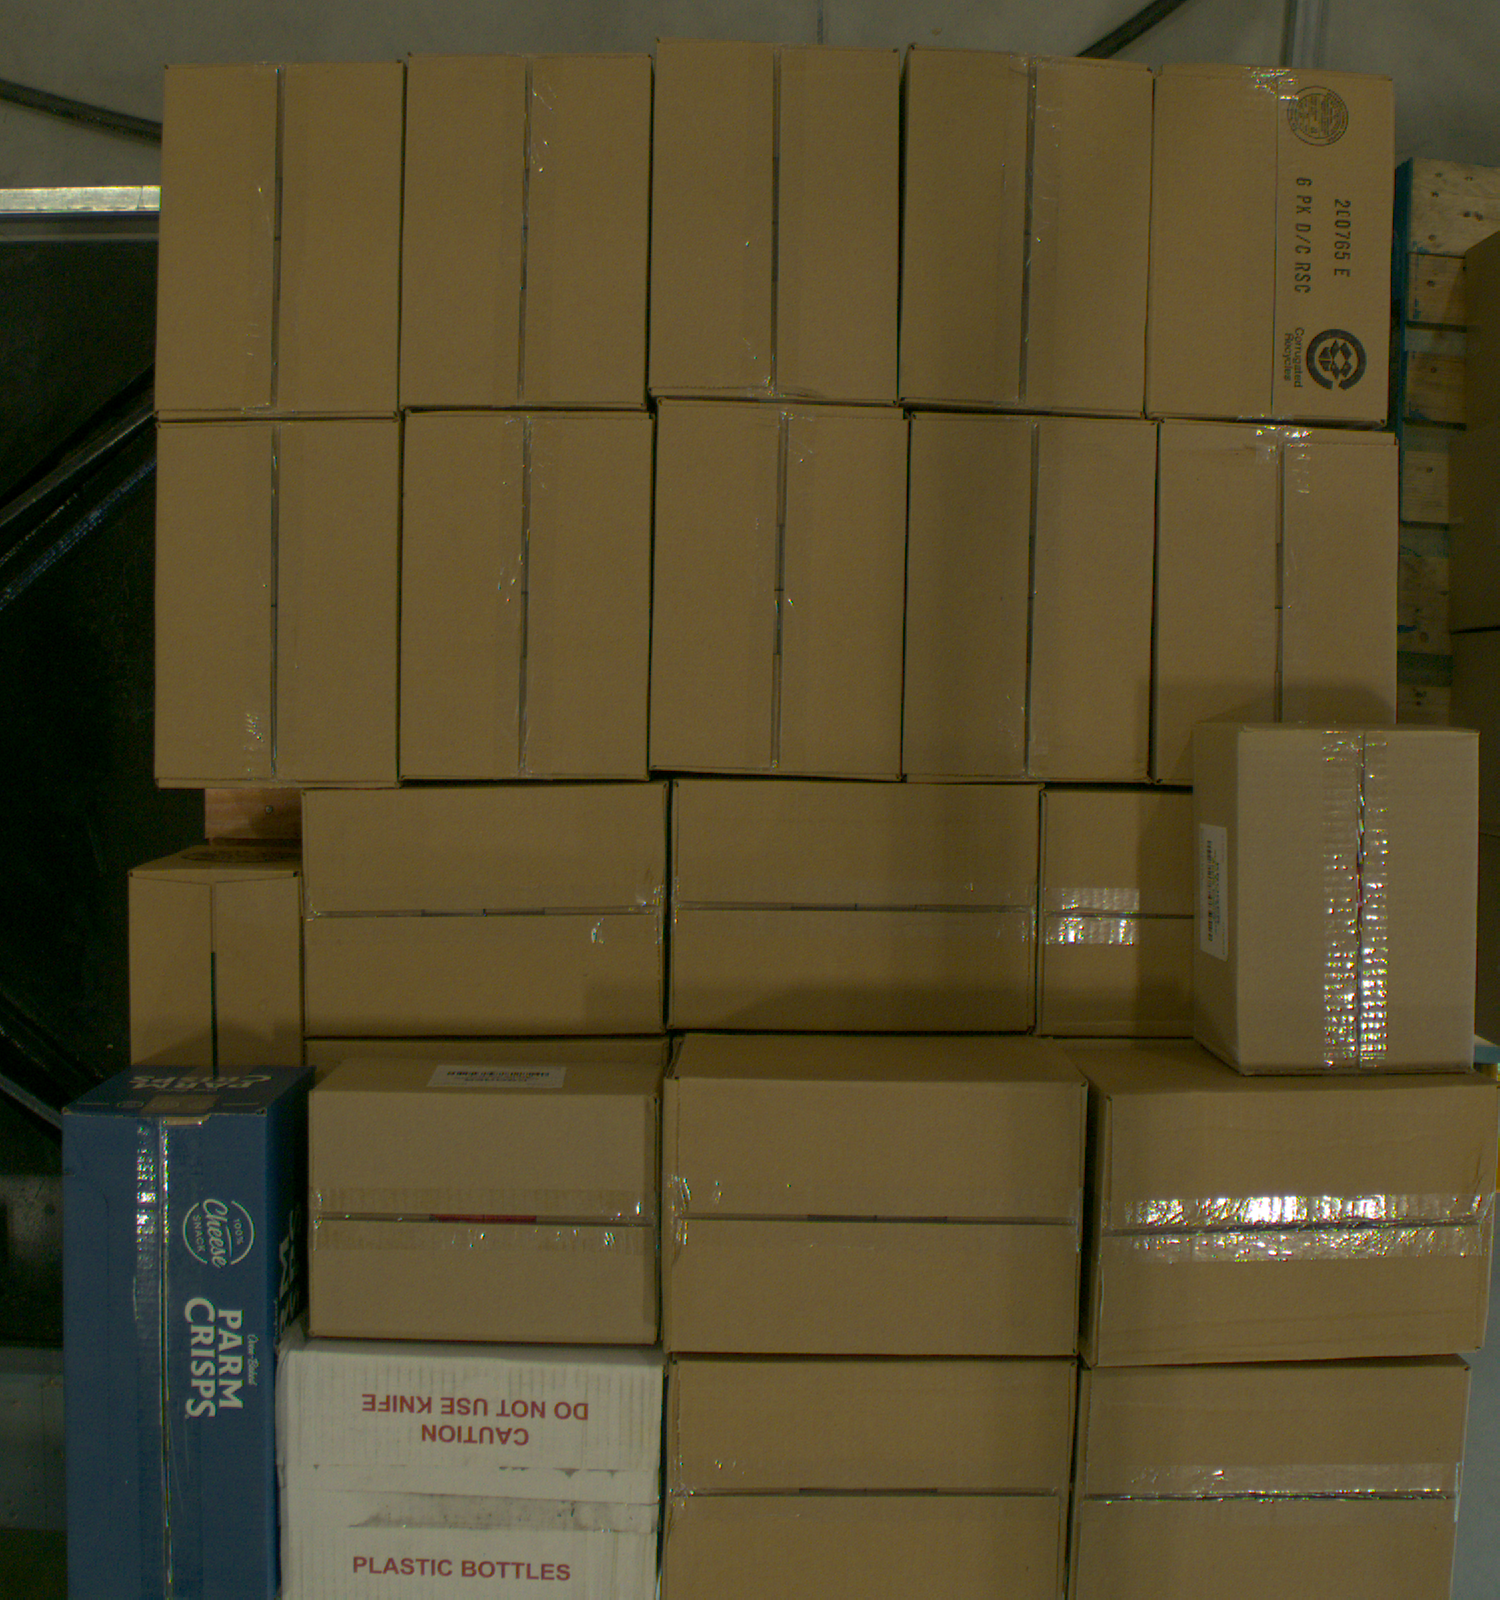box top: (664, 1078, 1088, 1355), (1097, 1083, 1500, 1367), (62, 1129, 273, 1600), (651, 399, 909, 781), (663, 1363, 1078, 1600), (276, 1350, 663, 1600), (1069, 1365, 1473, 1600), (899, 47, 1153, 419), (400, 412, 654, 781), (904, 414, 1157, 781), (671, 780, 1039, 1030), (305, 785, 667, 1038), (650, 38, 899, 403), (154, 59, 405, 419), (400, 52, 653, 407), (1155, 420, 1398, 787), (1148, 63, 1394, 426), (158, 419, 400, 787), (309, 1093, 660, 1343), (1238, 725, 1479, 1076), (1036, 794, 1195, 1038), (130, 873, 302, 1081)
